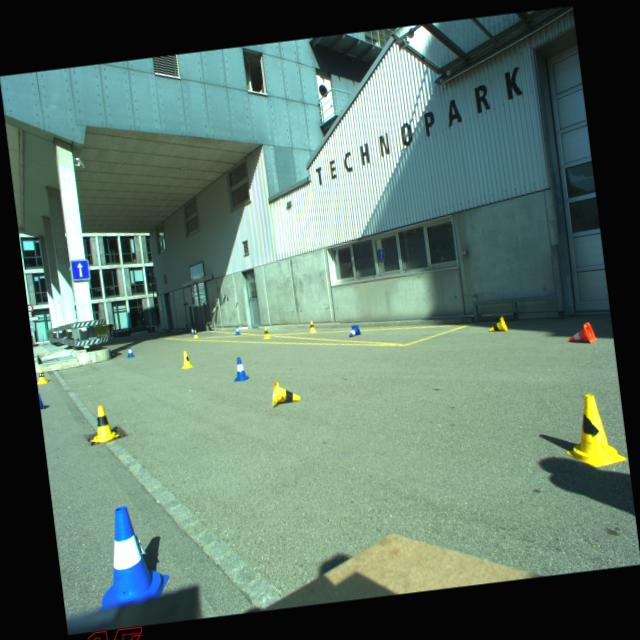blue_cone: (85, 502, 172, 614), (230, 356, 250, 382), (348, 324, 360, 337), (126, 345, 134, 358), (233, 324, 240, 334), (190, 326, 195, 334)
orange_cone: (568, 320, 596, 344)
yellow_cone: (560, 390, 626, 470), (86, 403, 120, 443), (270, 377, 302, 407), (488, 315, 508, 333), (178, 349, 194, 368), (35, 366, 48, 384), (262, 326, 270, 339), (308, 320, 316, 332), (192, 329, 198, 338)
